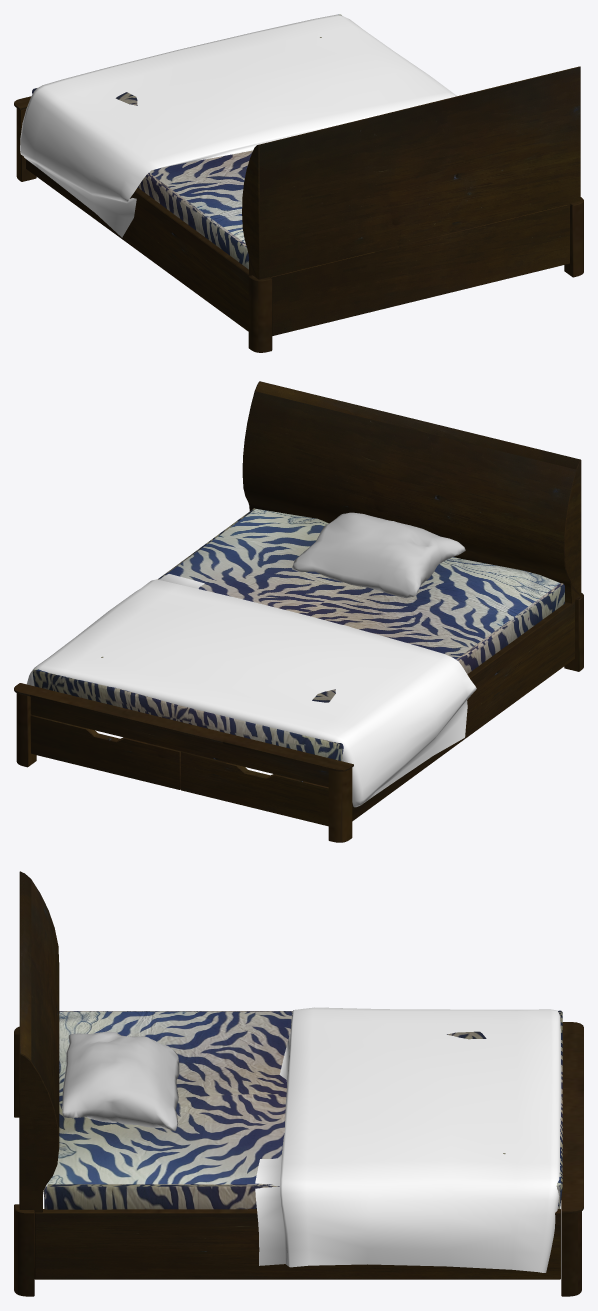
File: koi.fbx
The picture shows the model from 3 angles, top to bottom: view 1: azimuth 30°, elevation 25°; view 2: azimuth 150°, elevation 25°; view 3: azimuth 270°, elevation 25°; orthographic projection. The views are drawn at different scales.
Visible parts, largest first — view 1: base, blanket, mattress; view 2: base, blanket, mattress, pillow.001; view 3: blanket, base, mattress, pillow.001.
Part boxes in pixels (x1=…): base: x1=14, y1=66, x2=583, y2=352; blanket: x1=20, y1=14, x2=456, y2=237; mattress: x1=32, y1=14, x2=341, y2=269; base: x1=14, y1=381, x2=583, y2=842; blanket: x1=27, y1=574, x2=476, y2=807; mattress: x1=32, y1=508, x2=564, y2=761; pillow.001: x1=292, y1=512, x2=465, y2=598; blanket: x1=255, y1=1007, x2=561, y2=1272; base: x1=14, y1=871, x2=583, y2=1296; mattress: x1=44, y1=1010, x2=562, y2=1209; pillow.001: x1=62, y1=1031, x2=179, y2=1130.
Size of the model in its own units: 184 by 103 by 221.
